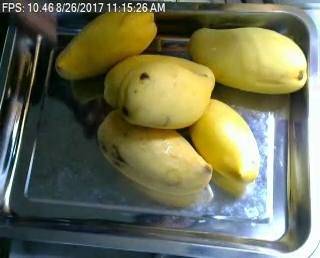Mango: (95, 109, 211, 194), (191, 26, 308, 93), (58, 8, 160, 80), (103, 55, 213, 112), (186, 96, 259, 180), (119, 63, 211, 127)
